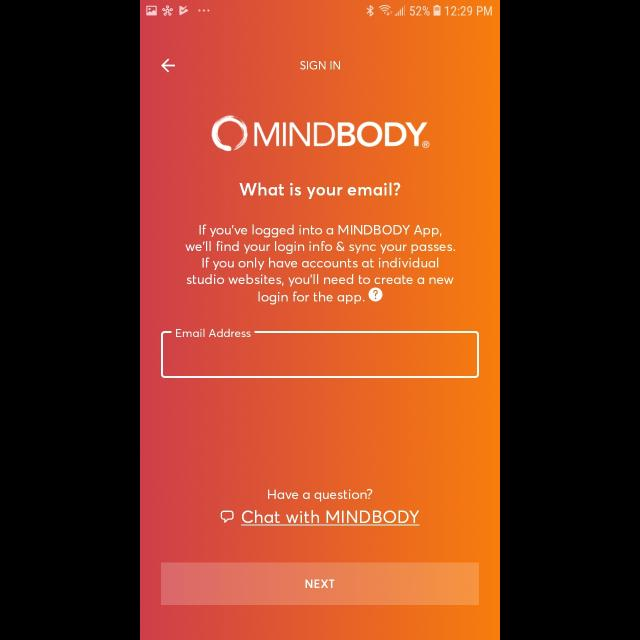icon: (368, 286, 384, 302), (160, 59, 176, 73), (221, 511, 235, 524)
image: (212, 116, 430, 152)
input: (161, 328, 479, 378)
text: (185, 224, 455, 306), (240, 509, 420, 526), (239, 182, 401, 200), (268, 488, 374, 502), (176, 328, 252, 338), (300, 61, 340, 70)
textbutton: (161, 562, 479, 606)
uppertaskbar: (140, 1, 500, 17)
